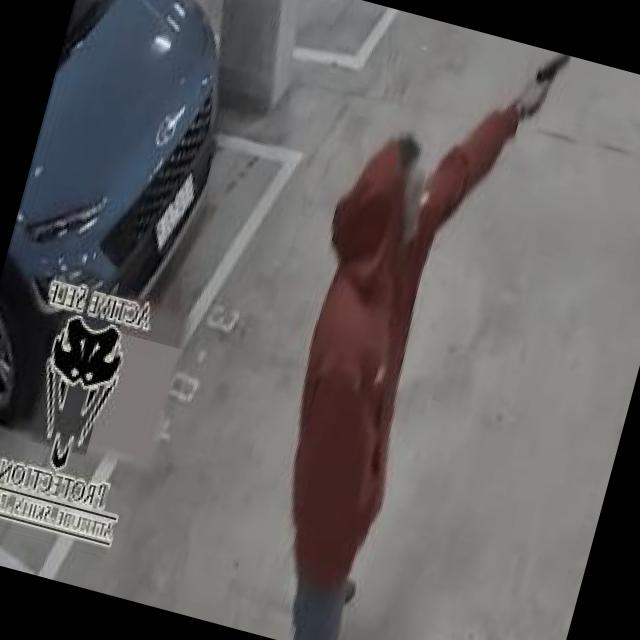Guns: (518, 47, 577, 125)
